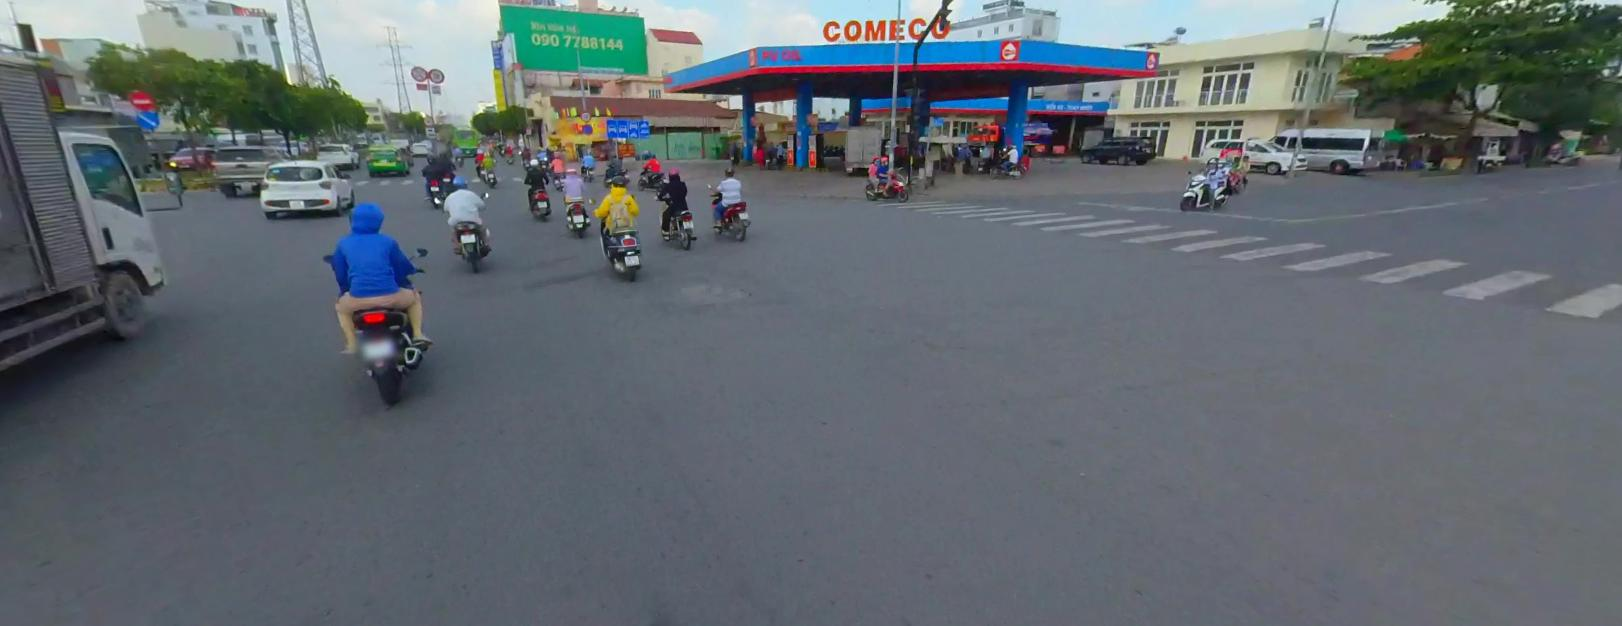Cam con lai: (410, 64, 427, 79), (422, 115, 433, 124)
Cam dung va do: (583, 123, 593, 133)
Cam nguoc chieu: (130, 89, 154, 108)
Gioi han toc do: (428, 67, 444, 82), (580, 110, 590, 120)
Hieu lenh: (134, 107, 160, 128)
